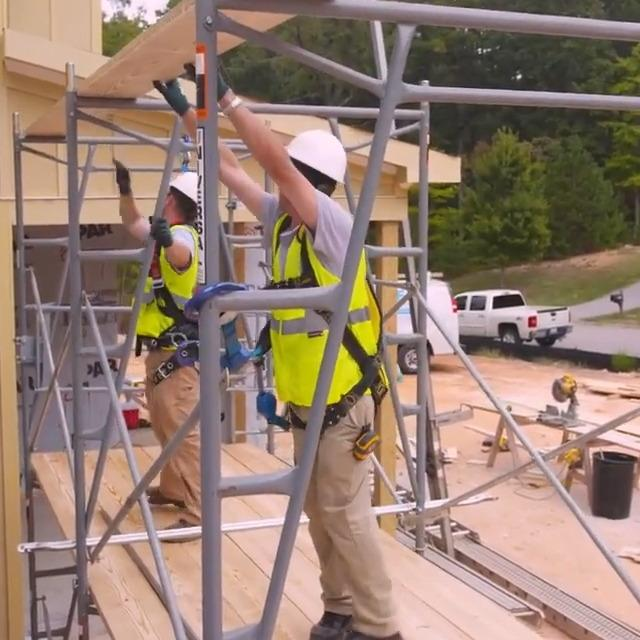Gloves: (188, 58, 230, 100), (155, 78, 190, 117), (146, 216, 173, 247), (112, 159, 132, 196)
Hardhat: (284, 129, 347, 183), (169, 170, 196, 200)
Person: (154, 55, 405, 640), (111, 159, 203, 541)
Safety Vest: (269, 211, 388, 405), (131, 224, 199, 346)
truck: (454, 289, 572, 346)
van: (362, 272, 460, 375)
